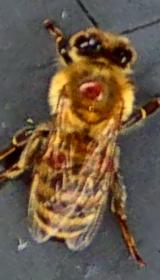varroa_mite: (75, 78, 116, 116), (47, 138, 82, 174), (94, 147, 116, 174)
